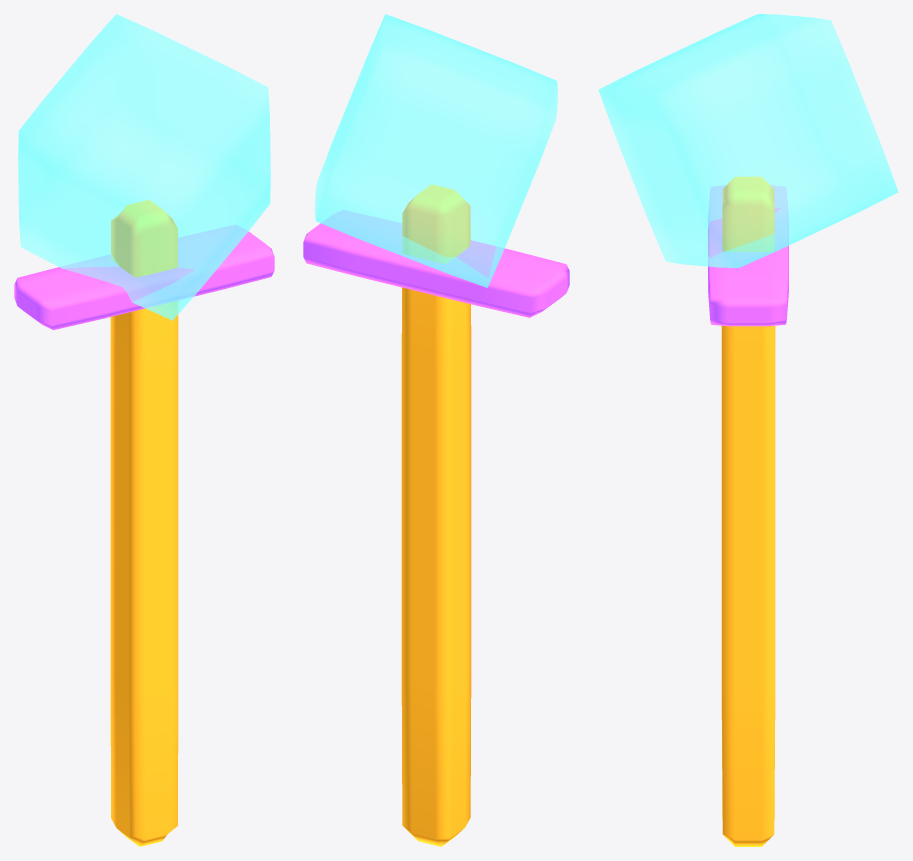
File: staff-arcane.glb
3 renders of one model, left to right at view 1: azimuth 30°, elevation 25°; view 2: azimuth 150°, elevation 25°; view 3: azimuth 270°, elevation 25°, orthographic. The views are drawn at different scales.
Parts seen in each view (by area): view 1: Gem, Staff, Ring; view 2: Gem, Staff, Ring; view 3: Gem, Staff, Ring.
Part boxes in pixels (<box>): Gem: <box>18,14,270,320</box>; Staff: <box>110,200,178,846</box>; Ring: <box>14,225,274,330</box>; Gem: <box>315,14,557,287</box>; Staff: <box>401,184,471,846</box>; Ring: <box>303,210,569,317</box>; Gem: <box>598,14,898,267</box>; Staff: <box>721,176,775,846</box>; Ring: <box>708,185,788,326</box>.
Size of the model in its own units: 1.08 by 3.39 by 1.12.
